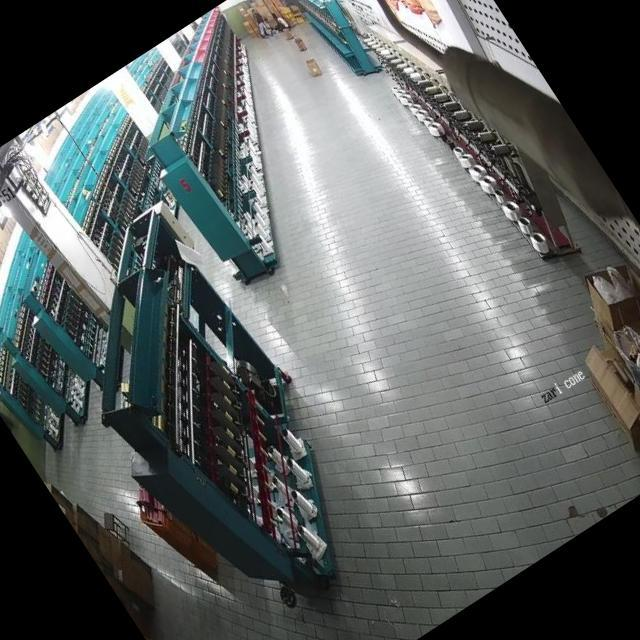person: (253, 11, 280, 45), (268, 7, 294, 36)
